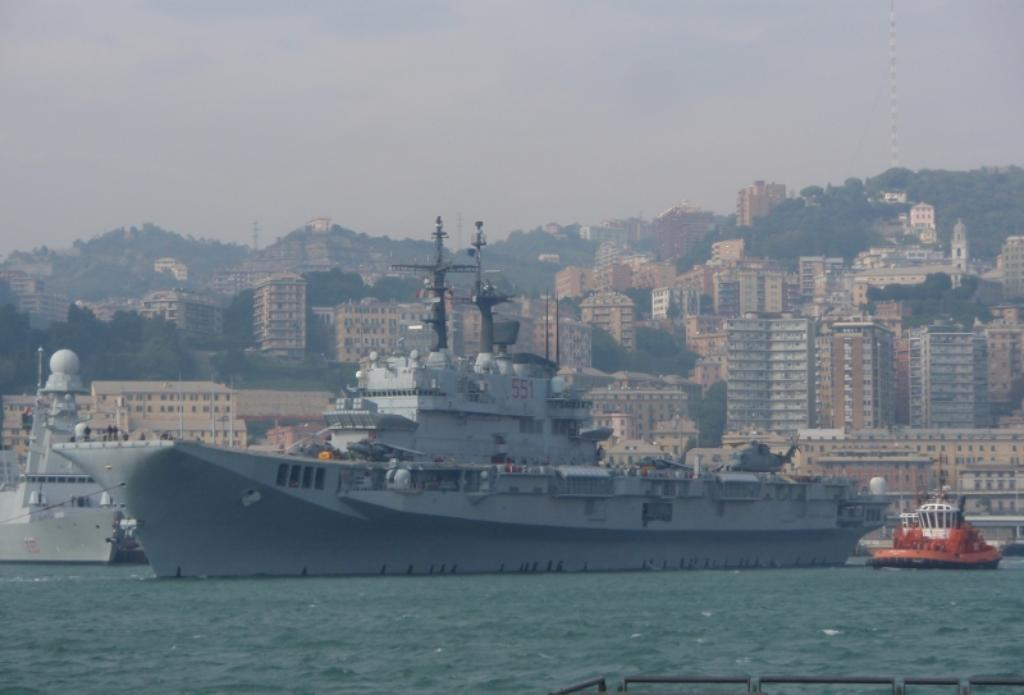Warship: (45, 217, 903, 590), (0, 326, 154, 578)
